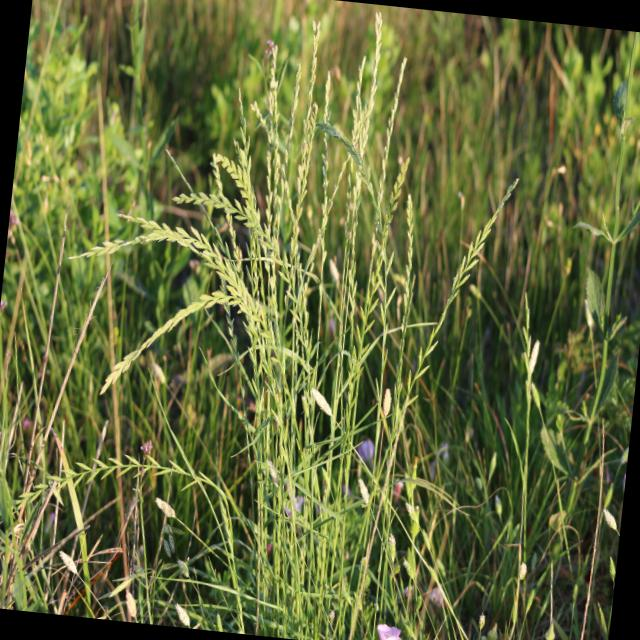Lolium: (30, 16, 531, 640), (64, 204, 286, 370), (405, 169, 522, 419), (161, 175, 322, 338), (9, 440, 215, 536), (352, 51, 408, 367), (254, 37, 298, 208)
